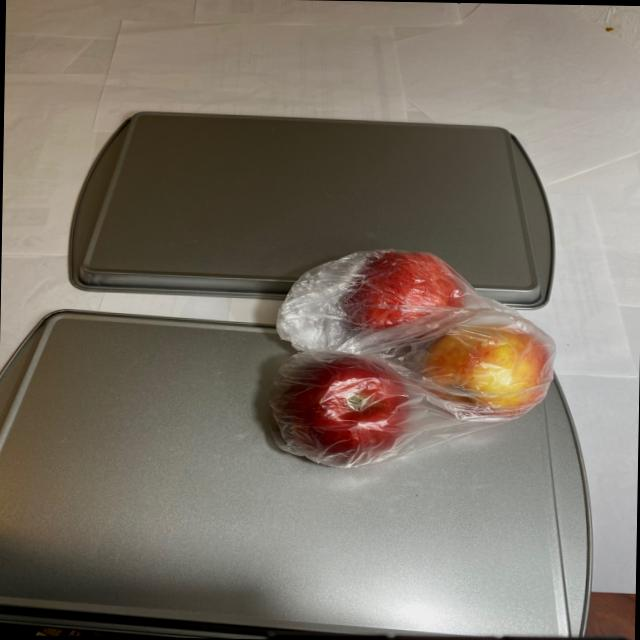apple: (269, 243, 556, 467)
